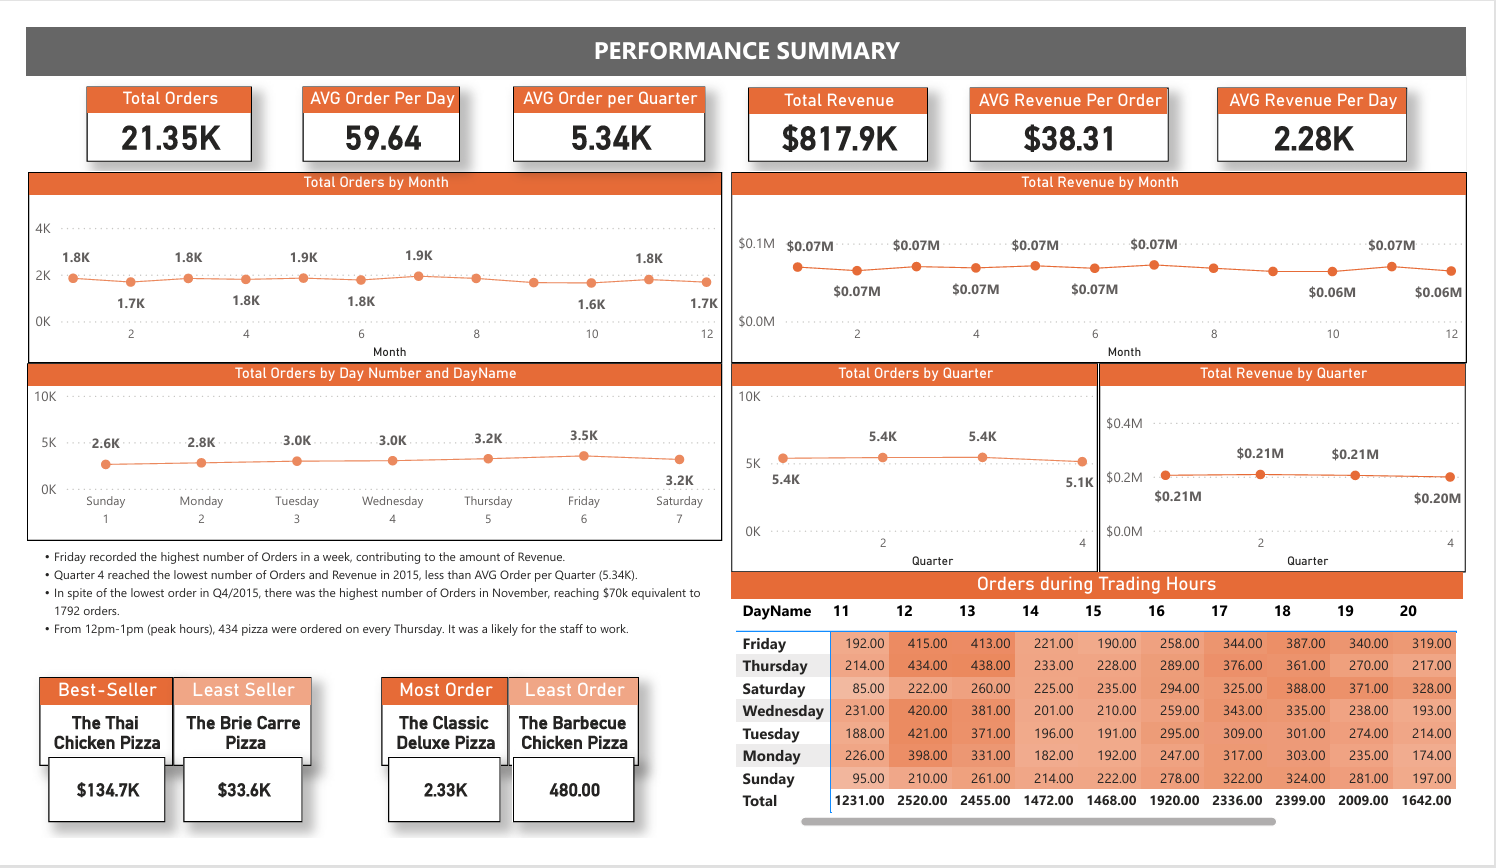

What the dashboard file says about the page in this screenshot:
{"tool":"powerbi","page":{"name":"Dashboard","canvas":[1280,720],"ordinal":0},"visuals":[{"type":"card","title":"Total Orders","fields":{"Values":["Fact_Pizza.TotalOrder"]},"box":[53.1,51.9,147.2,67.6],"z":0},{"type":"card","title":"Total Revenue","fields":{"Values":["Fact_Pizza.TotalSale"]},"box":[640.6,53.1,160.5,66.4],"z":1000},{"type":"card","title":"AVG Revenue Per Order","fields":{"Values":["Fact_Pizza.Average Order"]},"box":[838.5,53.1,176.1,66.4],"z":2000},{"type":"lineChart","fields":{"Category":["DimDate.Day Number","DimDate.DayName"],"Y":["Fact_Pizza.Total Orders"]},"box":[0,298,617.7,158],"z":3000},{"type":"lineChart","fields":{"Category":["DimDate.Month"],"Y":["Fact_Pizza.Total Orders"]},"box":[1.2,127.9,616.5,170.1],"z":4000},{"type":"lineChart","fields":{"Y":["Fact_Pizza.Total Orders"],"Category":["DimDate.Quarter"]},"box":[626.1,298,325.7,185.8],"z":5000},{"type":"card","title":"AVG Order Per Day","fields":{"Values":["Fact_Pizza.AVG Order per Day"]},"box":[244.9,51.9,139.9,67.6],"z":6000},{"type":"card","title":"AVG Revenue Per Day","fields":{"Values":["Fact_Pizza.AVG Revenue per Day"]},"box":[1058,53.1,168.9,66.4],"z":7000},{"type":"lineChart","fields":{"Category":["DimDate.Quarter"],"Y":["Fact_Pizza.Total Revenue"]},"box":[953.1,298,325.7,185.8],"z":8000},{"type":"lineChart","fields":{"Category":["DimDate.Month"],"Y":["Fact_Pizza.Total Revenue"]},"box":[626.1,127.9,653.9,170.1],"z":9000},{"type":"card","title":"Best-Seller","fields":{"Values":["Min(Pizza Type.name)"]},"box":[10.9,576.7,119.4,79.6],"z":11000},{"type":"card","title":"Least Seller","fields":{"Values":["Min(Pizza Type.name)"]},"box":[130.3,576.7,123.1,79.6],"z":12000},{"type":"card","title":"Most Order","fields":{"Values":["Min(Pizza Type.name)"]},"box":[314.9,576.7,113.4,79.6],"z":13000},{"type":"card","fields":{"Values":["Fact_Pizza.Total Revenue"]},"box":[19.3,647.9,103.8,57.9],"z":14000},{"type":"card","fields":{"Values":["Fact_Pizza.Total Revenue"]},"box":[138.7,647.9,106.2,57.9],"z":15000},{"type":"card","fields":{"Values":["Fact_Pizza.Total Orders"]},"box":[320.9,647.9,100.1,57.9],"z":16000},{"type":"card","title":"Least Order","fields":{"Values":["Min(Pizza Type.name)"]},"box":[428.3,576.7,115.8,79.6],"z":17000},{"type":"pivotTable","title":"Orders during Trading Hours","fields":{"Values":["Fact_Pizza.Total Orders"],"Columns":["Fact_Pizza.Hour"],"Rows":["DimDate.DayName"]},"box":[626.1,483.8,650.3,231.6],"z":18000},{"type":"card","fields":{"Values":["Fact_Pizza.Total Orders"]},"box":[431.9,647.9,108.6,57.9],"z":20000},{"type":"shape","box":[0,0,222.5,33.4],"z":21000},{"type":"textbox","box":[0,0,1280,43.4],"z":22000},{"type":"textbox","box":[1.2,456,617.7,120.6],"z":23000},{"type":"card","title":"AVG Order per Quarter","fields":{"Values":["DimDate.AVG Order per Quarter"]},"box":[431.9,51.9,171.3,67.6],"z":24000}]}

Visuals, with their boxes in screenshot pixels (x1, y1, x2, y2):
"Total Orders" card: [94, 85, 258, 160]
"Total Revenue" card: [747, 86, 926, 160]
"AVG Revenue Per Order" card: [967, 86, 1163, 160]
lineChart - DimDate.Day Number x DimDate.DayName: [35, 359, 722, 534]
lineChart - DimDate.Month x Fact_Pizza.Total Orders: [36, 169, 722, 359]
lineChart - Fact_Pizza.Total Orders x DimDate.Quarter: [731, 359, 1093, 565]
"AVG Order Per Day" card: [307, 85, 463, 160]
"AVG Revenue Per Day" card: [1211, 86, 1399, 160]
lineChart - DimDate.Quarter x Fact_Pizza.Total Revenue: [1095, 359, 1457, 565]
lineChart - DimDate.Month x Fact_Pizza.Total Revenue: [731, 169, 1458, 359]
"Best-Seller" card: [47, 668, 180, 757]
"Least Seller" card: [180, 668, 317, 757]
"Most Order" card: [385, 668, 511, 757]
card - Fact_Pizza.Total Revenue: [57, 748, 172, 812]
card - Fact_Pizza.Total Revenue: [189, 748, 307, 812]
card - Fact_Pizza.Total Orders: [392, 748, 503, 812]
"Least Order" card: [511, 668, 640, 757]
"Orders during Trading Hours" pivotTable: [731, 565, 1454, 823]
card - Fact_Pizza.Total Orders: [515, 748, 636, 812]
shape: [35, 27, 282, 64]
textbox: [35, 27, 1458, 76]
textbox: [36, 534, 723, 668]
"AVG Order per Quarter" card: [515, 85, 706, 160]
